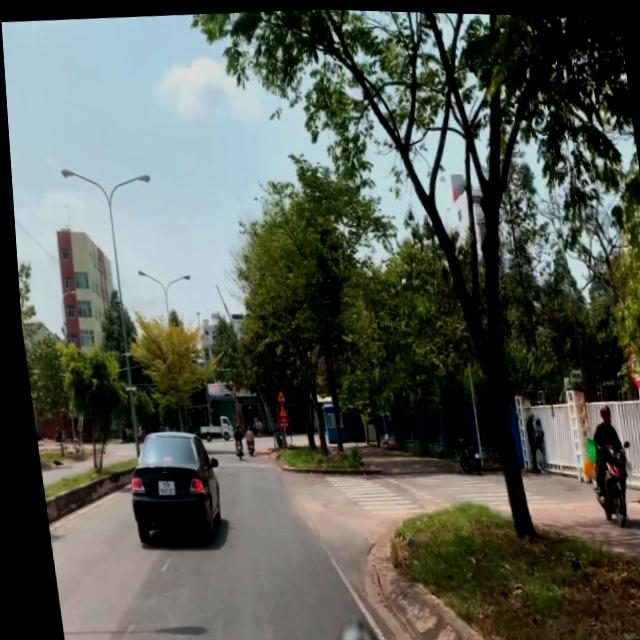Duong giao nhau cung cap: (269, 386, 280, 402)
Nguoi di bo cat ngang: (271, 400, 282, 416)
